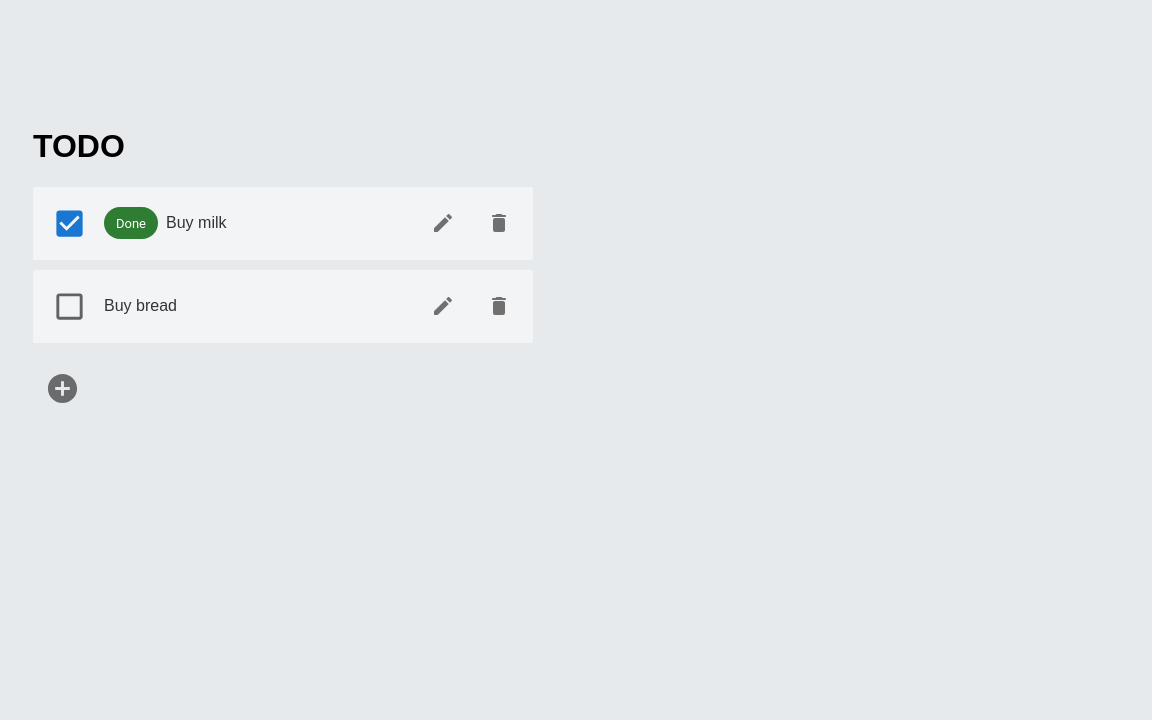
Test: TodoApp › should delete todo item after confirmation
This screenshot has width=1152, height=720.
Expected: the text with test id "todo-list-item-text-0" reads "Buy milk", x1=166 y1=214 x2=226 y2=231
Click the button with test id "button-delete-todo-0": [499, 223] box x1=475 y1=199 x2=523 y2=247
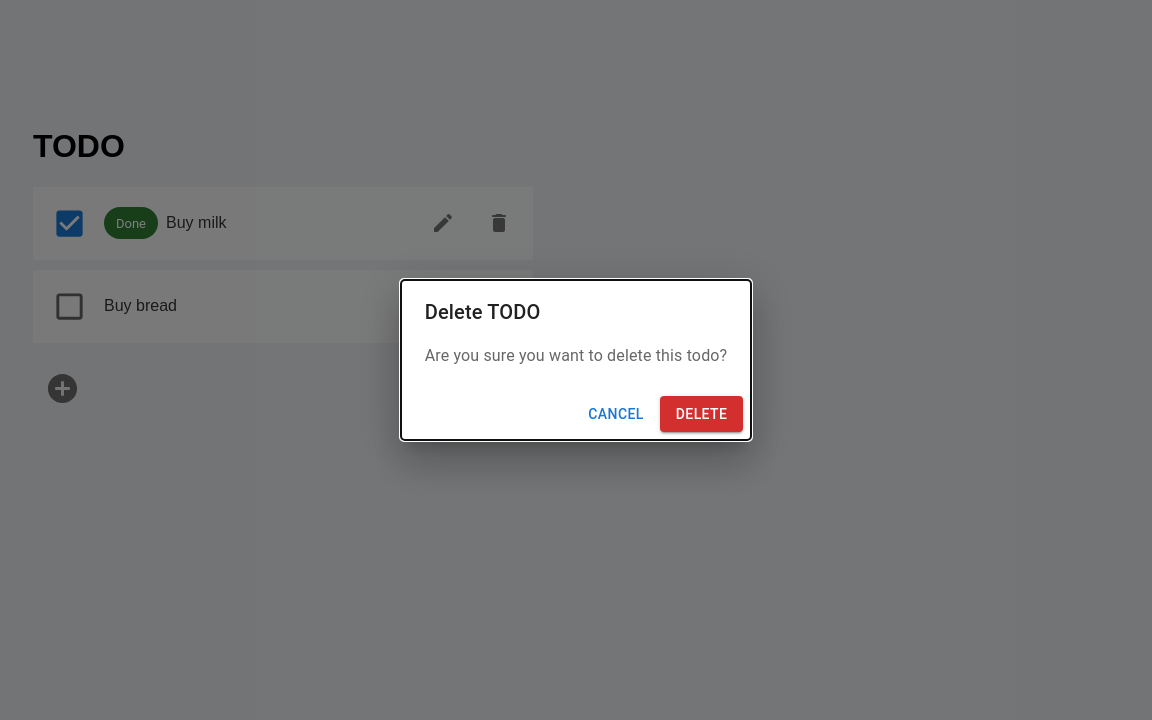
Click the button with test id "dialog-button-delete-todo": [702, 414] box x1=660 y1=396 x2=743 y2=432
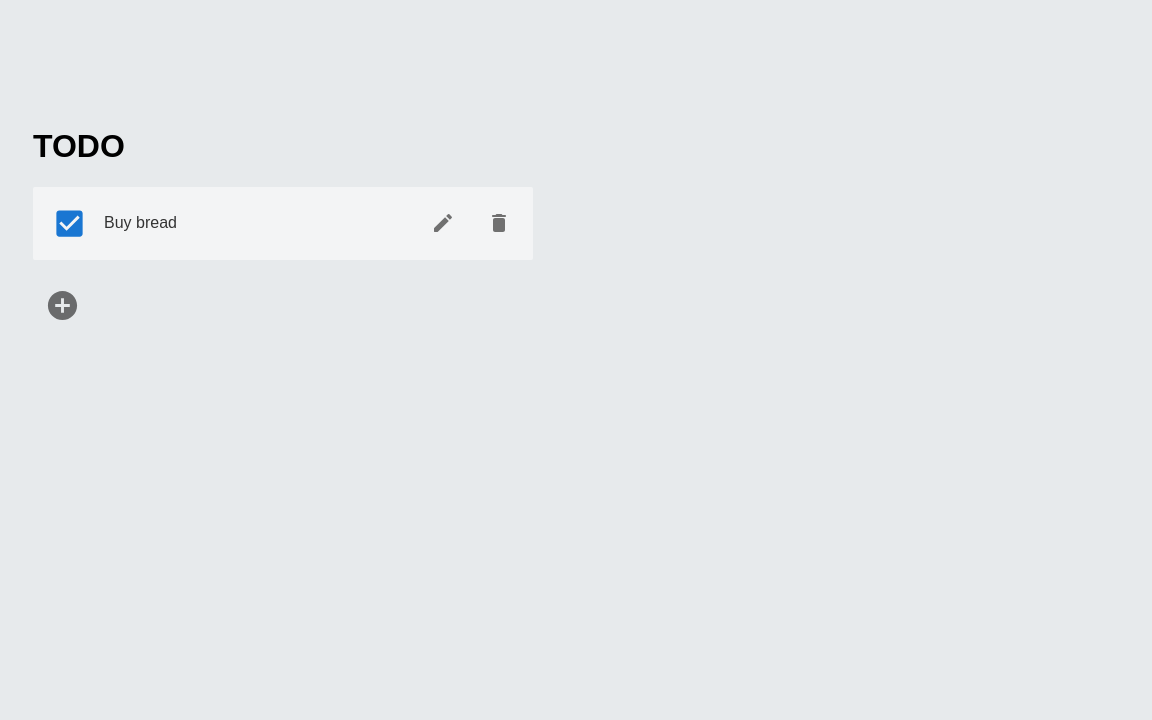
Expected: the text "Buy milk" is gone
